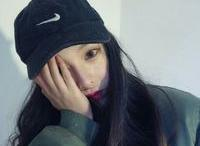face_mask: (47, 34, 110, 112)
